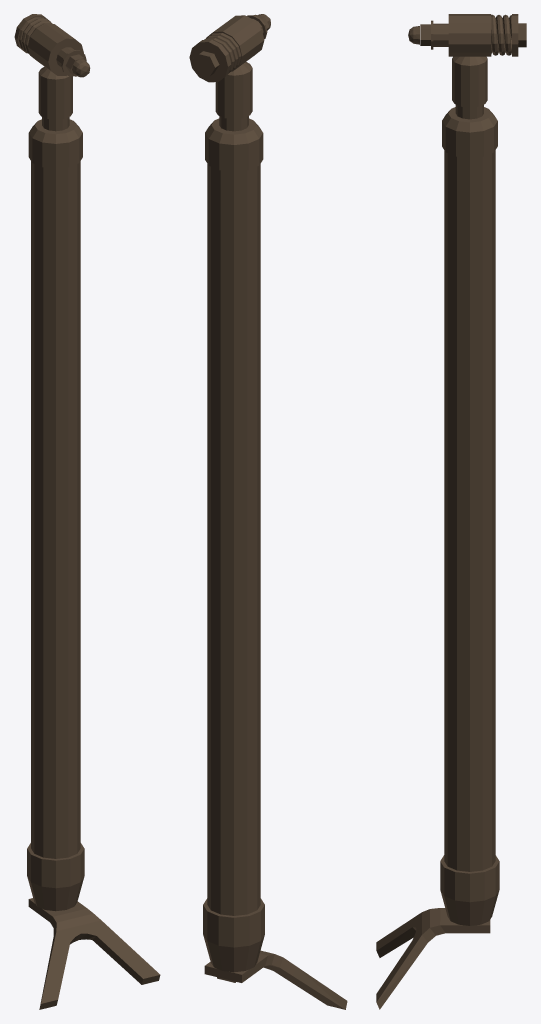
File: tool_drill_airleg.glb
3 views of the same model, side by side, from view 1: azimuth 30°, elevation 25°; view 2: azimuth 150°, elevation 25°; view 3: azimuth 270°, elevation 25° (orthographic). The views are drawn at different scales.
Visible parts, largest first — view 1: product-8d84359f-3f79-4aec-ad25-38aa3e0ae774-body; view 2: product-8d84359f-3f79-4aec-ad25-38aa3e0ae774-body; view 3: product-8d84359f-3f79-4aec-ad25-38aa3e0ae774-body.
Boxes of the visible parts, x1=… form: product-8d84359f-3f79-4aec-ad25-38aa3e0ae774-body: x1=14, y1=14, x2=160, y2=1009; product-8d84359f-3f79-4aec-ad25-38aa3e0ae774-body: x1=189, y1=14, x2=347, y2=1009; product-8d84359f-3f79-4aec-ad25-38aa3e0ae774-body: x1=376, y1=14, x2=526, y2=1009.
Bounding box in the file's own units: 0.0604 × 0.45 × 0.0635.
